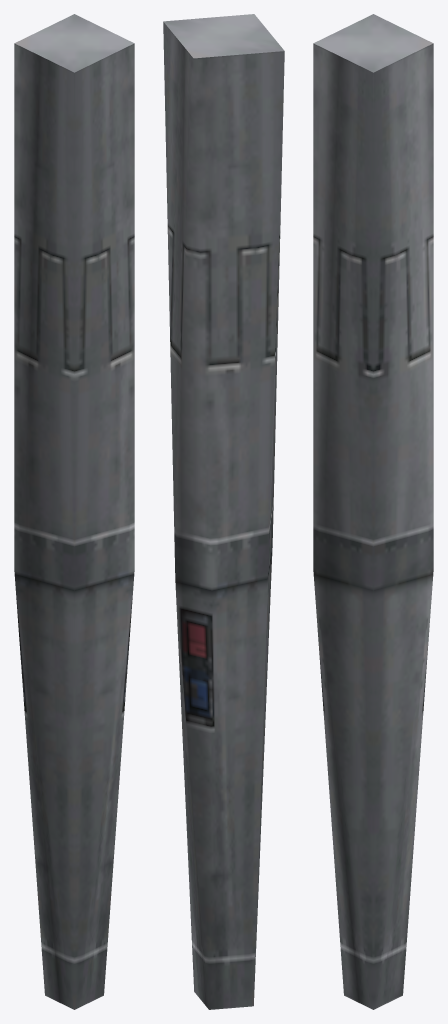
The model's file is wp_grenade_ww41_l1.fbx.
3 views of the same model, side by side, from view 1: azimuth 90°, elevation 25°; view 2: azimuth 150°, elevation 25°; view 3: azimuth 270°, elevation 25° (orthographic).
Visible parts, largest first — view 1: mesh_node; view 2: mesh_node; view 3: mesh_node.
Part boxes in pixels (left/top/right/bottom): mesh_node: left=14, top=14, right=134, bottom=1009; mesh_node: left=163, top=14, right=284, bottom=1009; mesh_node: left=313, top=14, right=433, bottom=1009.
Bounding box in the file's own units: 0.0464 × 0.351 × 0.0402.
